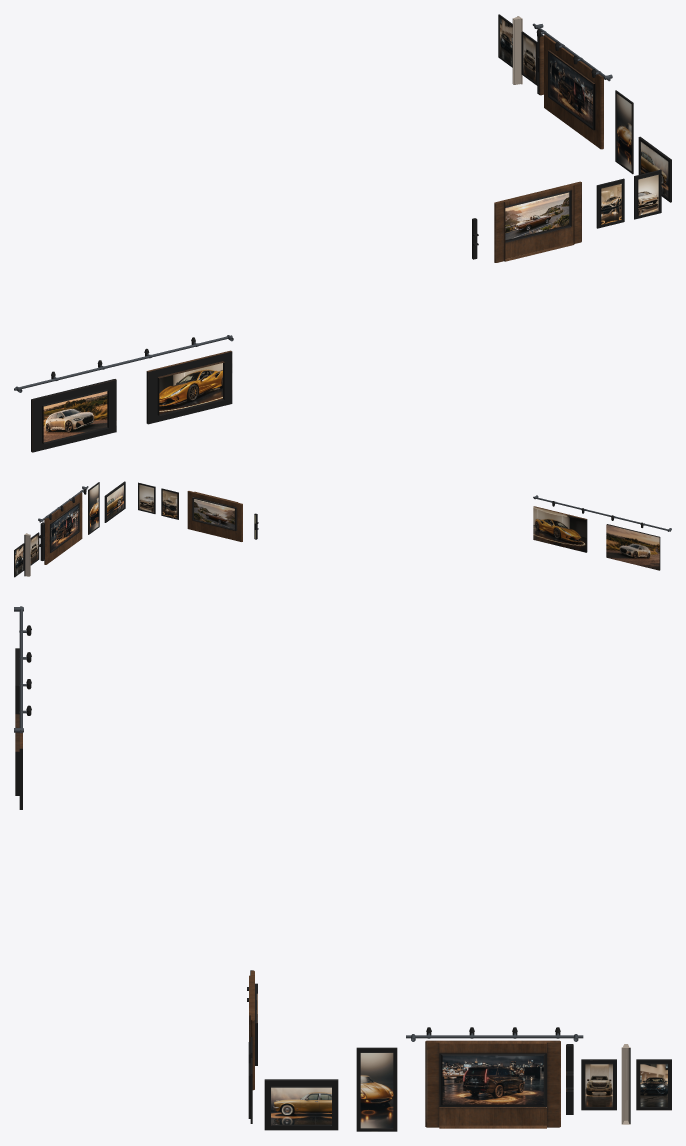
File: Showroom_MTL3_OtherAssets.fbx
3 views of the same model, one above another, from view 1: azimuth 30°, elevation 25°; view 2: azimuth 150°, elevation 25°; view 3: azimuth 270°, elevation 25° (orthographic). The views are drawn at different scales.
Parts seen in each view (by area): view 1: Cube.070, Cube.068, Cube.069, Cube.073, Cube.075, Cube.071, Cube.072, Cube.074, Cube.076, Cube.080, Cylinder.021, Cube.077; view 2: Cube.070, Cube.069, Cube.068, Cube.073, Cube.074, Cube.075, Cube.071, Cube.072, Cube.077, Cube.080, Cylinder.021, Cube.076 (+1 smaller); view 3: Cube.073, Cube.074, Cube.075, Cube.076, Cube.077, Cube.070, Cube.080.
Boxes of the visible parts, <box> form: Cube.070: <box>494,181,581,262</box>; Cube.068: <box>146,350,232,424</box>; Cube.069: <box>31,379,116,452</box>; Cube.073: <box>544,34,603,149</box>; Cube.075: <box>615,90,633,174</box>; Cube.071: <box>596,178,624,228</box>; Cube.072: <box>634,169,661,219</box>; Cube.074: <box>638,136,671,202</box>; Cube.076: <box>521,31,537,85</box>; Cube.080: <box>512,16,522,84</box>; Cylinder.021: <box>14,335,232,390</box>; Cube.077: <box>498,14,512,67</box>; Cube.070: <box>187,491,242,541</box>; Cube.069: <box>606,524,660,570</box>; Cube.068: <box>533,506,587,552</box>; Cube.073: <box>44,492,82,564</box>; Cube.074: <box>104,481,125,522</box>; Cube.075: <box>88,482,99,534</box>; Cube.071: <box>161,488,178,519</box>; Cube.072: <box>138,482,155,513</box>; Cube.077: <box>14,543,24,577</box>; Cube.080: <box>24,533,30,576</box>; Cylinder.021: <box>533,496,671,531</box>; Cube.076: <box>30,532,39,565</box>; Cube.073: <box>425,1040,560,1128</box>; Cube.074: <box>264,1079,338,1130</box>; Cube.075: <box>356,1047,397,1131</box>; Cube.076: <box>581,1059,616,1110</box>; Cube.077: <box>636,1059,671,1110</box>; Cube.070: <box>249,970,257,1090</box>; Cube.080: <box>621,1044,630,1124</box>.
Size of the model in its own units: 5263 by 629 by 3340.
Materials: 1 (1 with a texture image).
